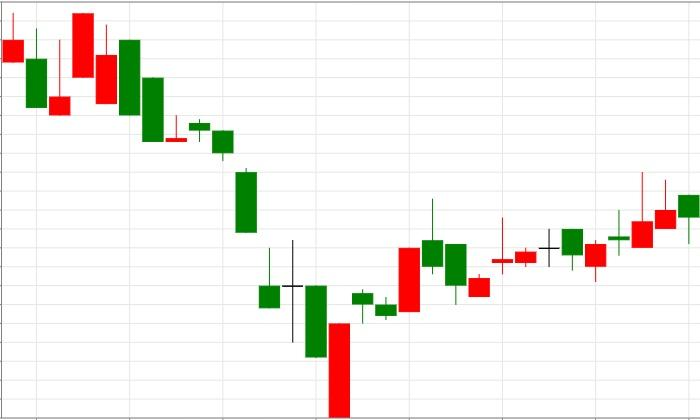inverse_hammer_rise: (2, 13, 71, 116)
